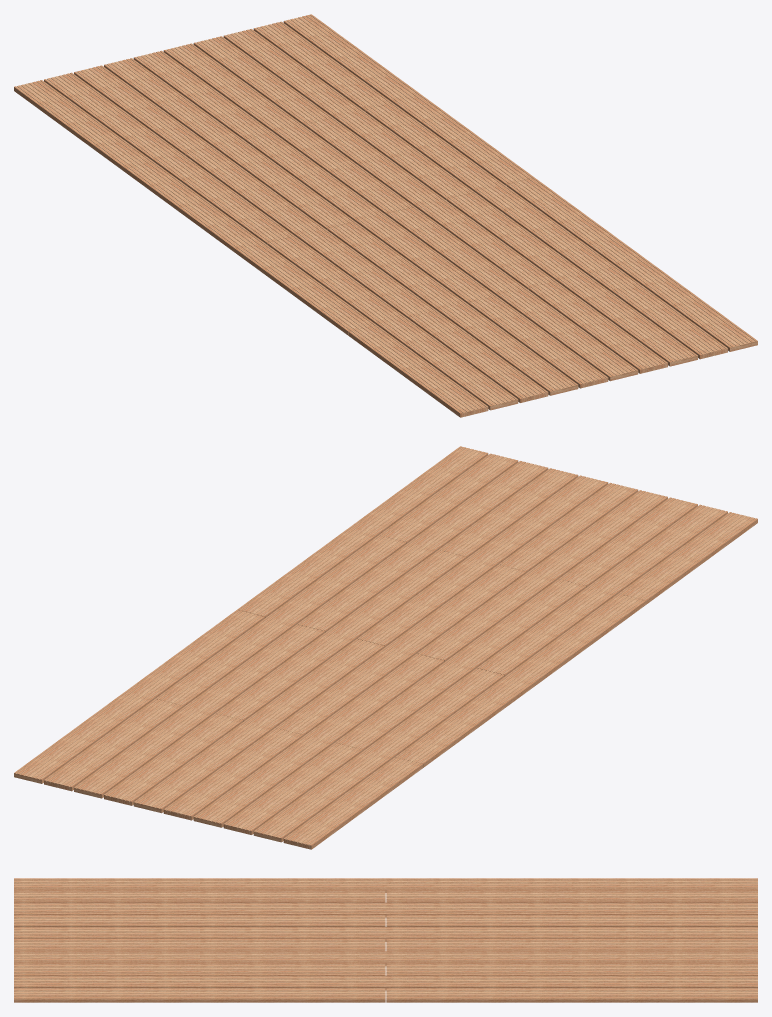
The model's file is sample_terrasse.glb.
3 views of the same model, one above another, from view 1: azimuth 30°, elevation 25°; view 2: azimuth 150°, elevation 25°; view 3: azimuth 270°, elevation 25° (orthographic). The views are drawn at different scales.
Visible parts, largest first — view 1: Volumenkörper1:20, Volumenkörper1:12, Volumenkörper1:17, Volumenkörper1:22, Volumenkörper1:7, Volumenkörper1:2, Volumenkörper1:1, Volumenkörper1:16, Volumenkörper1:21, Volumenkörper1:6, Volumenkörper1:11, Volumenkörper1:15 (+13 smaller); view 2: Volumenkörper1:20, Volumenkörper1:11, Volumenkörper1:16, Volumenkörper1:21, Volumenkörper1:6, Volumenkörper1:1, Volumenkörper1:2, Volumenkörper1:17, Volumenkörper1:22, Volumenkörper1:7, Volumenkörper1:12, Volumenkörper1:15 (+13 smaller); view 3: Volumenkörper1:1, Volumenkörper1:2, Volumenkörper1, Volumenkörper1:15, Volumenkörper1:5, Volumenkörper1:20, Volumenkörper1:6, Volumenkörper1:7, Volumenkörper1:11, Volumenkörper1:12, Volumenkörper1:16, Volumenkörper1:17 (+13 smaller).
Part boxes in pixels (x1,y1,x2,y2): Volumenkörper1:20: [125, 161, 376, 335]; Volumenkörper1:12: [387, 207, 638, 381]; Volumenkörper1:17: [327, 221, 578, 395]; Volumenkörper1:22: [267, 236, 518, 410]; Volumenkörper1:7: [447, 192, 697, 366]; Volumenkörper1:2: [507, 177, 757, 351]; Volumenkörper1:1: [283, 14, 534, 185]; Volumenkörper1:16: [104, 58, 354, 229]; Volumenkörper1:21: [44, 72, 294, 244]; Volumenkörper1:6: [223, 29, 474, 200]; Volumenkörper1:11: [163, 43, 414, 215]; Volumenkörper1:15: [185, 147, 436, 318]; Volumenkörper1:20: [395, 593, 646, 767]; Volumenkörper1:11: [133, 639, 384, 813]; Volumenkörper1:16: [193, 653, 444, 827]; Volumenkörper1:21: [253, 668, 504, 842]; Volumenkörper1:6: [74, 624, 324, 798]; Volumenkörper1:1: [14, 609, 264, 783]; Volumenkörper1:2: [237, 446, 488, 617]; Volumenkörper1:17: [417, 490, 667, 661]; Volumenkörper1:22: [477, 504, 727, 676]; Volumenkörper1:7: [297, 461, 548, 632]; Volumenkörper1:12: [357, 475, 608, 647]; Volumenkörper1:15: [335, 579, 586, 750]; Volumenkörper1:1: [386, 988, 757, 1002]; Volumenkörper1:2: [14, 988, 385, 1002]; Volumenkörper1: [200, 975, 571, 990]; Volumenkörper1:15: [200, 902, 571, 917]; Volumenkörper1:5: [200, 951, 571, 965]; Volumenkörper1:20: [200, 878, 571, 892]; Volumenkörper1:6: [386, 963, 757, 975]; Volumenkörper1:7: [14, 963, 385, 975]; Volumenkörper1:11: [386, 939, 757, 951]; Volumenkörper1:12: [14, 939, 385, 951]; Volumenkörper1:16: [386, 914, 757, 926]; Volumenkörper1:17: [14, 914, 385, 926].
Bounding box in the file's own units: 1.54 × 0.021 × 4.
1 material, 1 textured.
